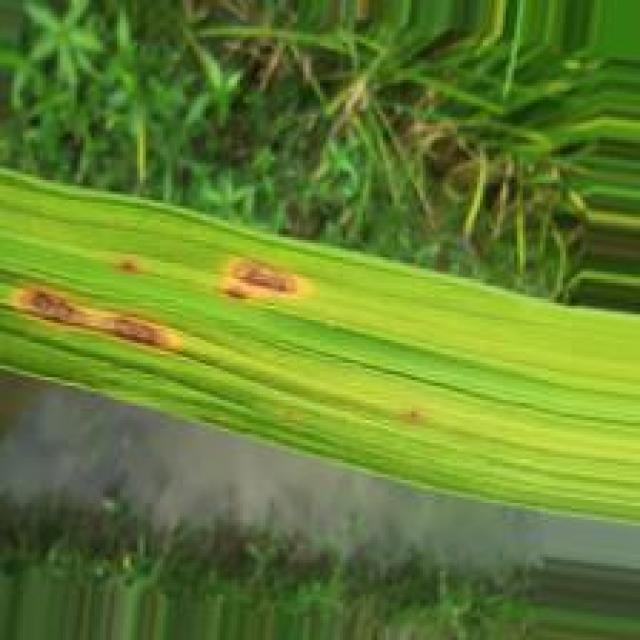Narrow_Brown_Leaf_Spot: (10, 279, 195, 359), (198, 243, 322, 307)
